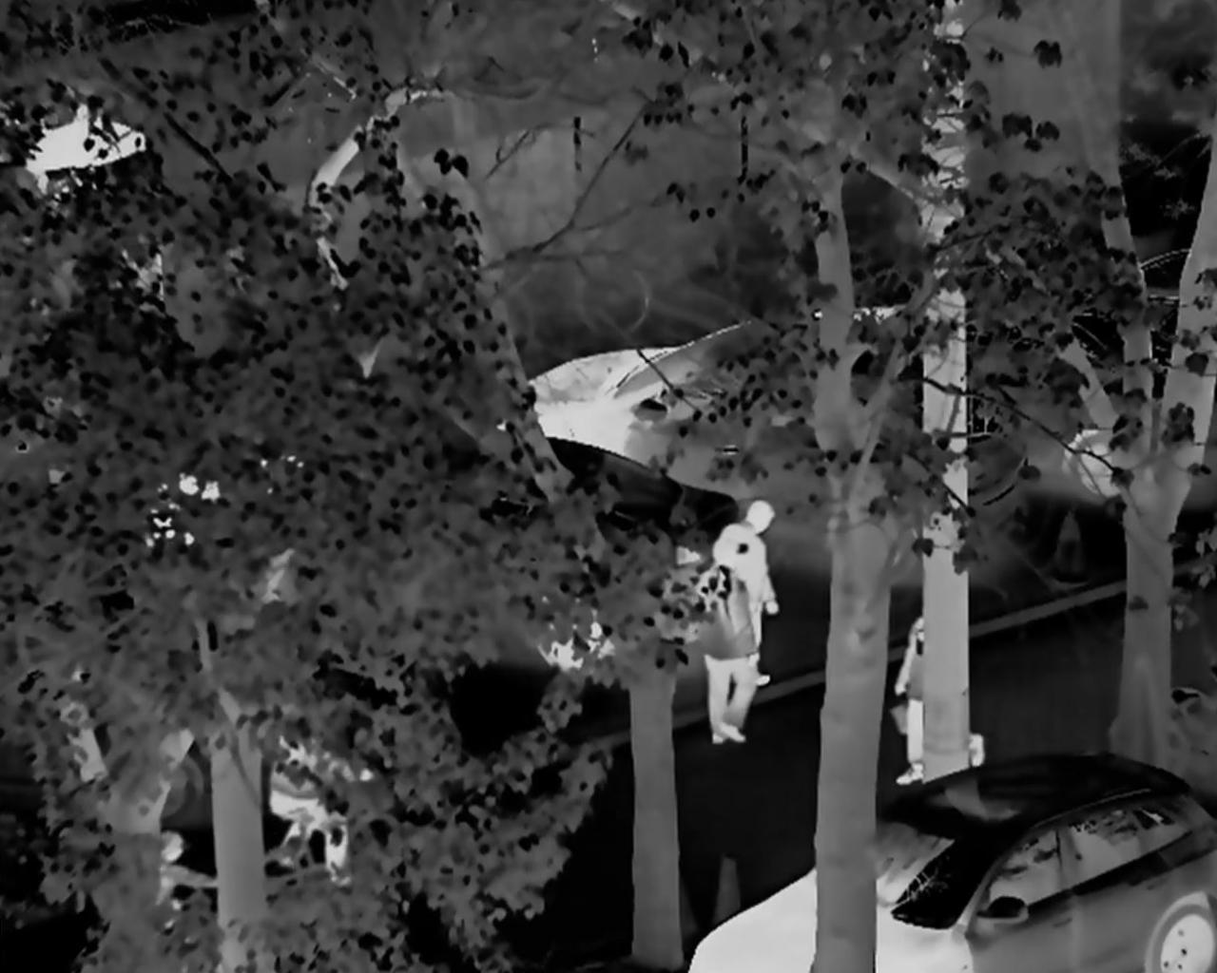person: (267, 683, 385, 896), (884, 602, 994, 790), (692, 534, 765, 753), (715, 491, 778, 703)
